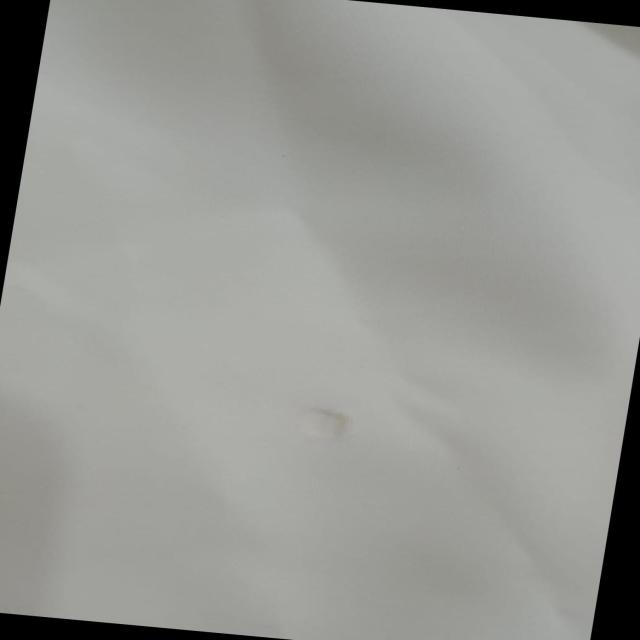stain: (277, 394, 370, 458)
